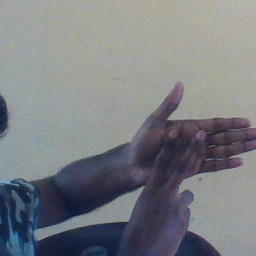N: (123, 77, 256, 230)
